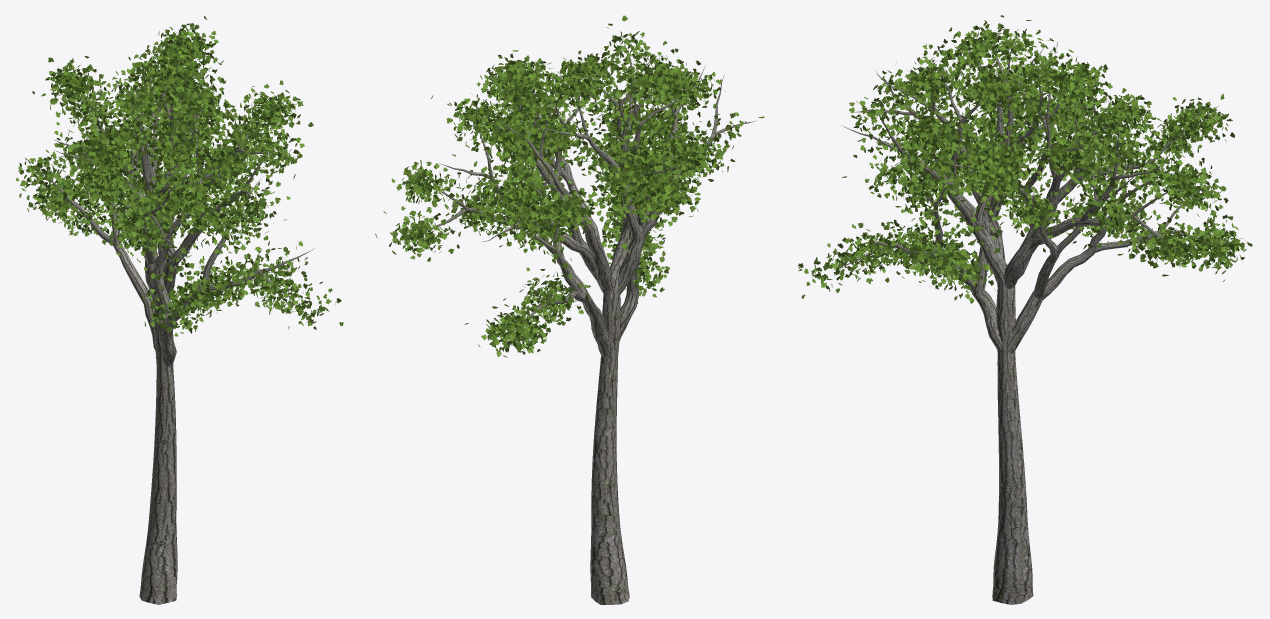
The model's file is ash_easytree_v018.glb.
3 renders of one model, left to right at view 1: azimuth 30°, elevation 25°; view 2: azimuth 150°, elevation 25°; view 3: azimuth 270°, elevation 25°, orthographic. The views are drawn at different scales.
Parts seen in each view (by area): view 1: Fresno foliage cards, Fresno_EasyTree_V018_Proof; view 2: Fresno foliage cards, Fresno_EasyTree_V018_Proof; view 3: Fresno foliage cards, Fresno_EasyTree_V018_Proof.
Boxes of the visible parts, x1=… form: Fresno foliage cards: x1=16, y1=16, x2=343, y2=336; Fresno_EasyTree_V018_Proof: x1=44, y1=57, x2=314, y2=604; Fresno foliage cards: x1=375, y1=15, x2=764, y2=357; Fresno_EasyTree_V018_Proof: x1=416, y1=38, x2=756, y2=604; Fresno foliage cards: x1=798, y1=15, x2=1252, y2=303; Fresno_EasyTree_V018_Proof: x1=834, y1=36, x2=1217, y2=604.
Size of the model in its own units: 5.27 by 10.69 by 7.83.
Materials: 2 (2 with a texture image).
